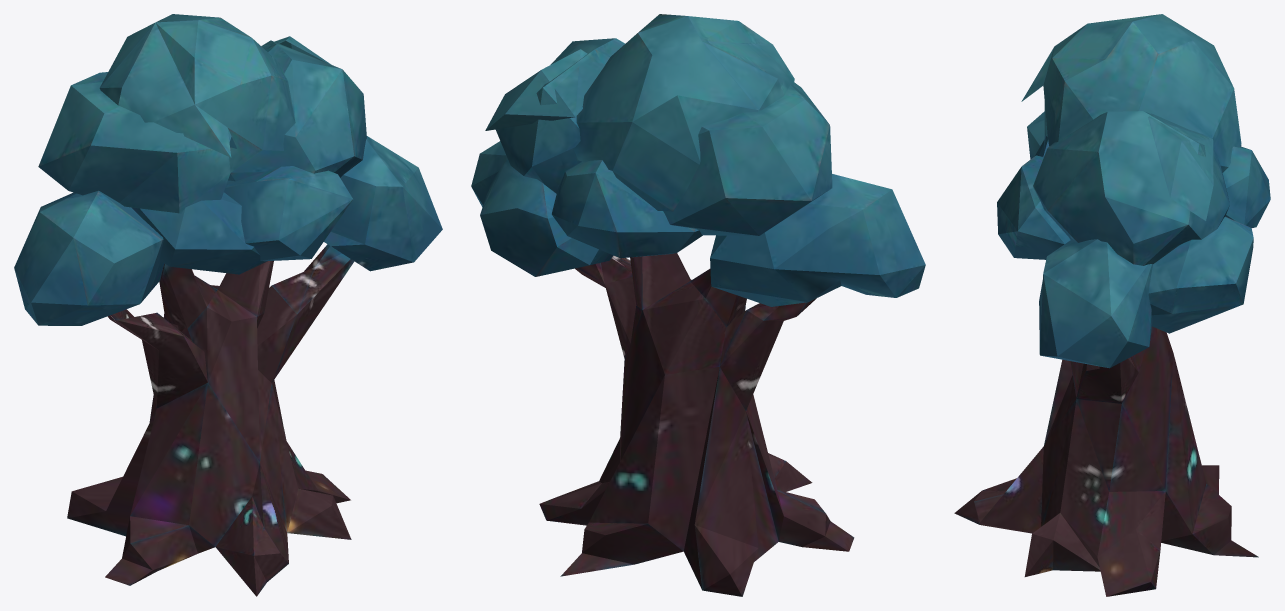
Rendered from b-arbre-semis.glb.
3 renders of one model, left to right at view 1: azimuth 30°, elevation 25°; view 2: azimuth 150°, elevation 25°; view 3: azimuth 270°, elevation 25°, orthographic. The views are drawn at different scales.
Visible parts, largest first — view 1: b-arbre-semis; view 2: b-arbre-semis; view 3: b-arbre-semis.
Part boxes in pixels (bbox=[...]): b-arbre-semis: bbox=[14, 14, 442, 596]; b-arbre-semis: bbox=[471, 14, 925, 596]; b-arbre-semis: bbox=[954, 14, 1270, 596].
Bounding box in the file's own units: 1.69 × 2 × 1.13.
1 material, 1 textured.
